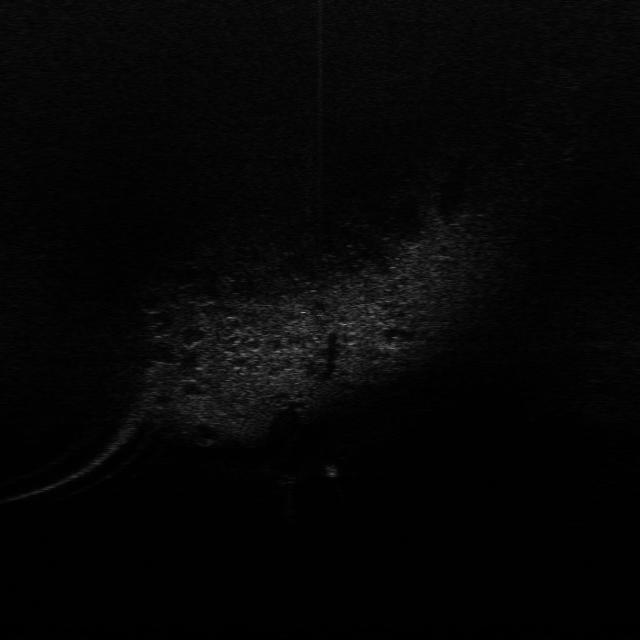cube: (266, 465, 310, 489)
cylinder: (320, 456, 340, 479)
